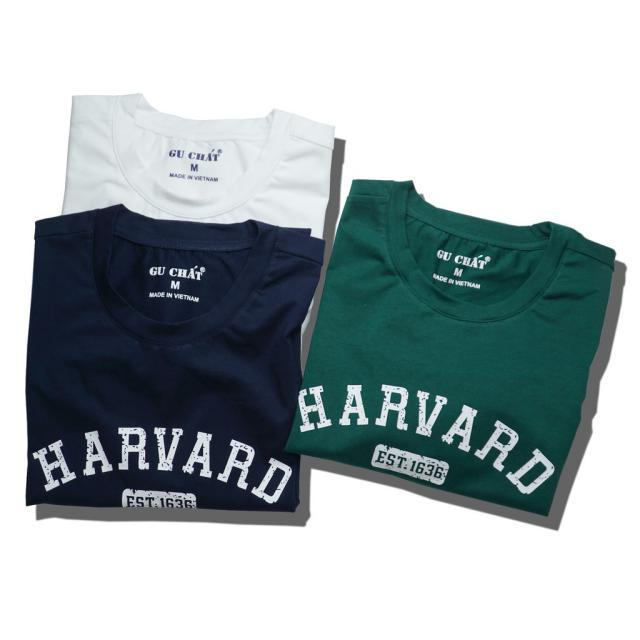Shirt: (286, 175, 626, 525), (20, 200, 335, 521), (50, 88, 342, 378)
